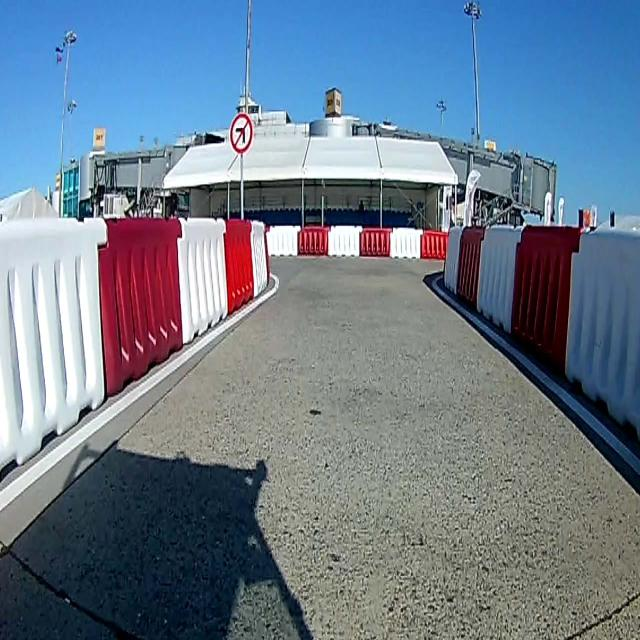soladonulmez: (230, 114, 252, 154)
